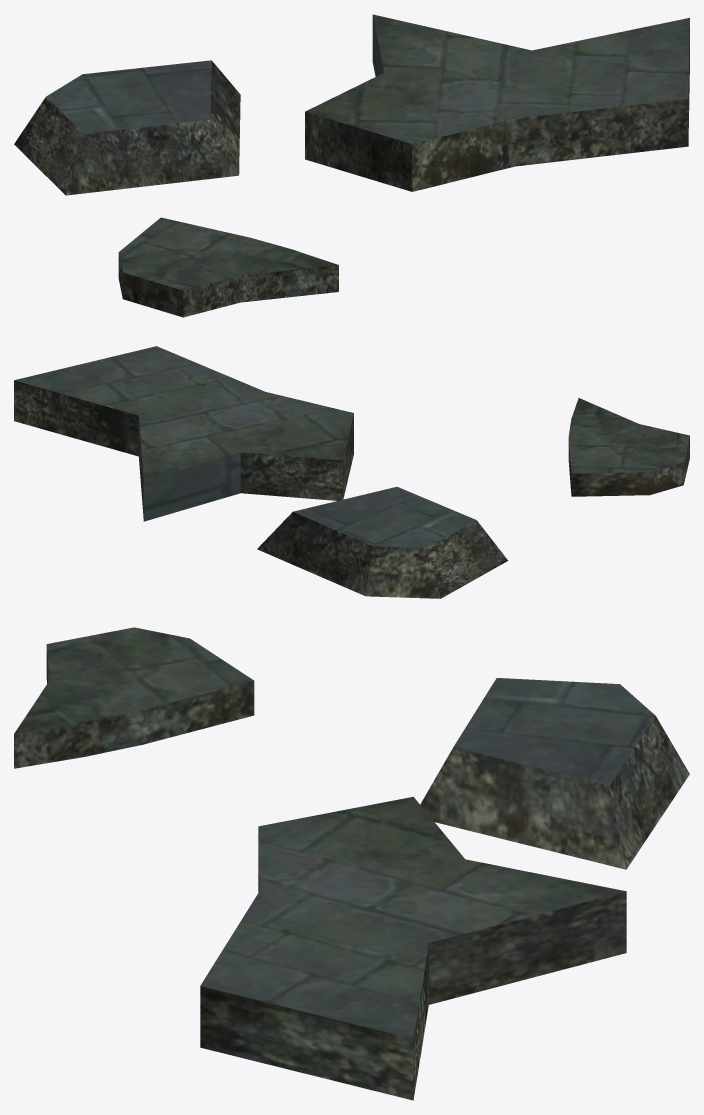
File: environment_common_digongwall_004_a.FBX
The picture shows the model from 3 angles, top to bottom: view 1: azimuth 30°, elevation 25°; view 2: azimuth 150°, elevation 25°; view 3: azimuth 270°, elevation 25°; orthographic projection. The views are drawn at different scales.
Visible parts, largest first — view 1: environment_common_digongwall_004_a, environment_common_digongwall_004_b; view 2: environment_common_digongwall_004_a, environment_common_digongwall_004_b; view 3: environment_common_digongwall_004_a, environment_common_digongwall_004_b.
Part boxes in pixels (bbox=[...]): environment_common_digongwall_004_a: bbox=[46, 14, 689, 290]; environment_common_digongwall_004_b: bbox=[14, 27, 689, 317]; environment_common_digongwall_004_a: bbox=[14, 346, 689, 547]; environment_common_digongwall_004_b: bbox=[14, 380, 689, 598]; environment_common_digongwall_004_a: bbox=[14, 627, 655, 1038]; environment_common_digongwall_004_b: bbox=[14, 645, 689, 1100].
Size of the model in its own units: 421 by 28.47 by 283.
